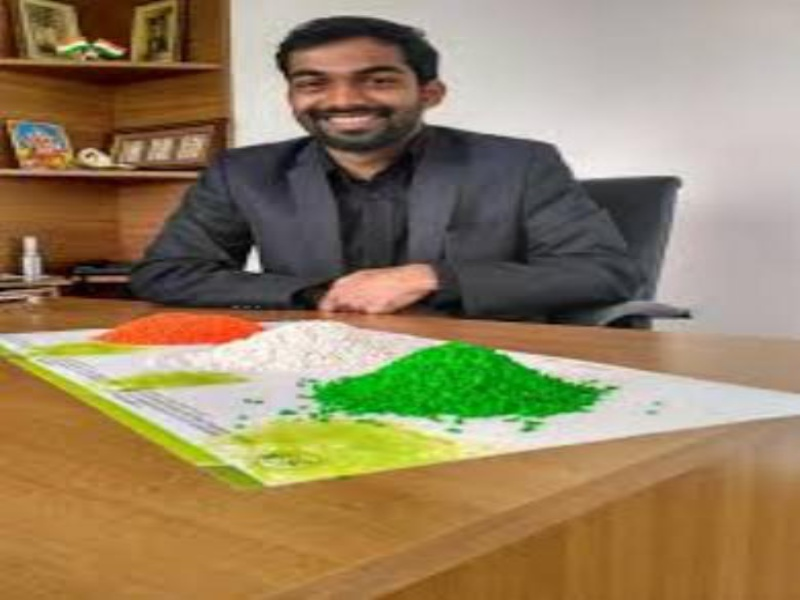TsisyArotava: (259, 12, 458, 179)
